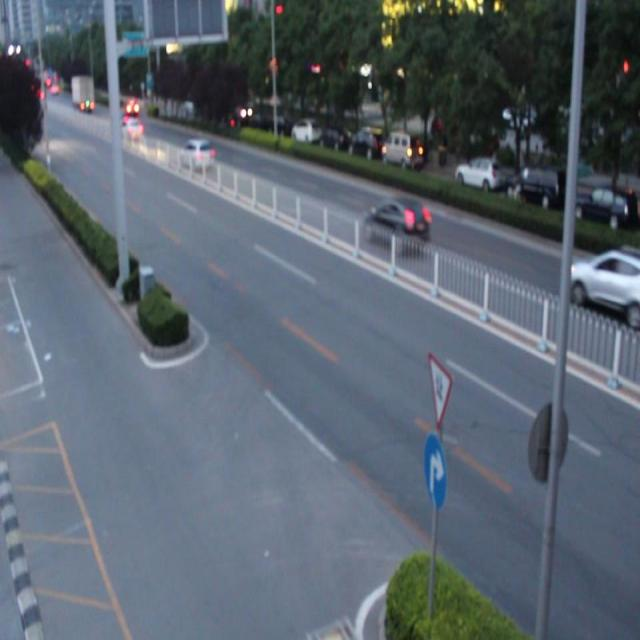car: (563, 244, 640, 319), (363, 196, 431, 260)
